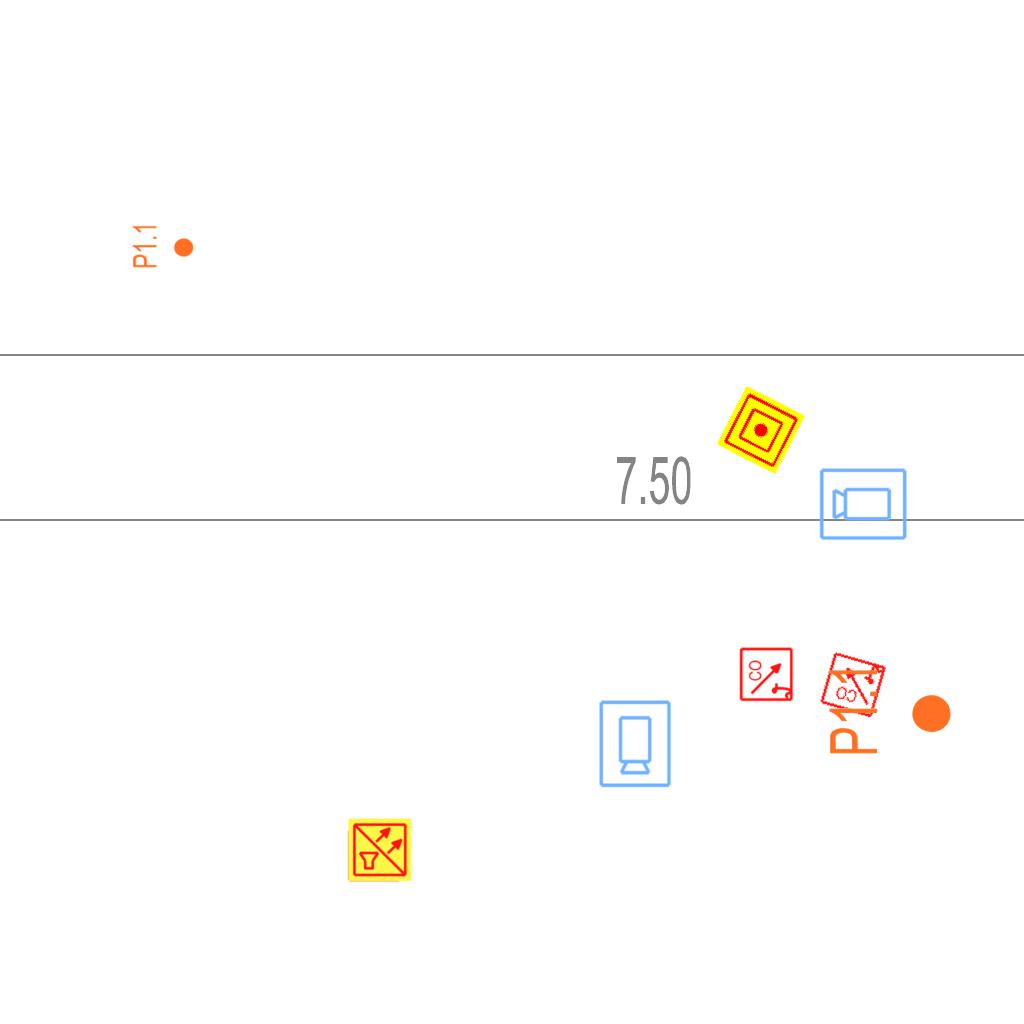Downlight_LED_Einbauleuchten_Flur: (826, 664, 954, 757), (131, 223, 195, 269)
KFO_Kamera_mit_Festobjektiv: (818, 465, 909, 542), (596, 698, 673, 789)
NAM-Nichtautomatischer_Melder: (716, 385, 806, 475)
OKW_Multisensormelder_(Kombination_optischer_Rauch-Kahlenmonoxid_Waerme-Melder): (347, 817, 413, 883)
ROA_Rauchmelder_optisch_mit_Signalgeber_(Sockelsirene): (818, 649, 888, 719), (739, 646, 795, 702)
